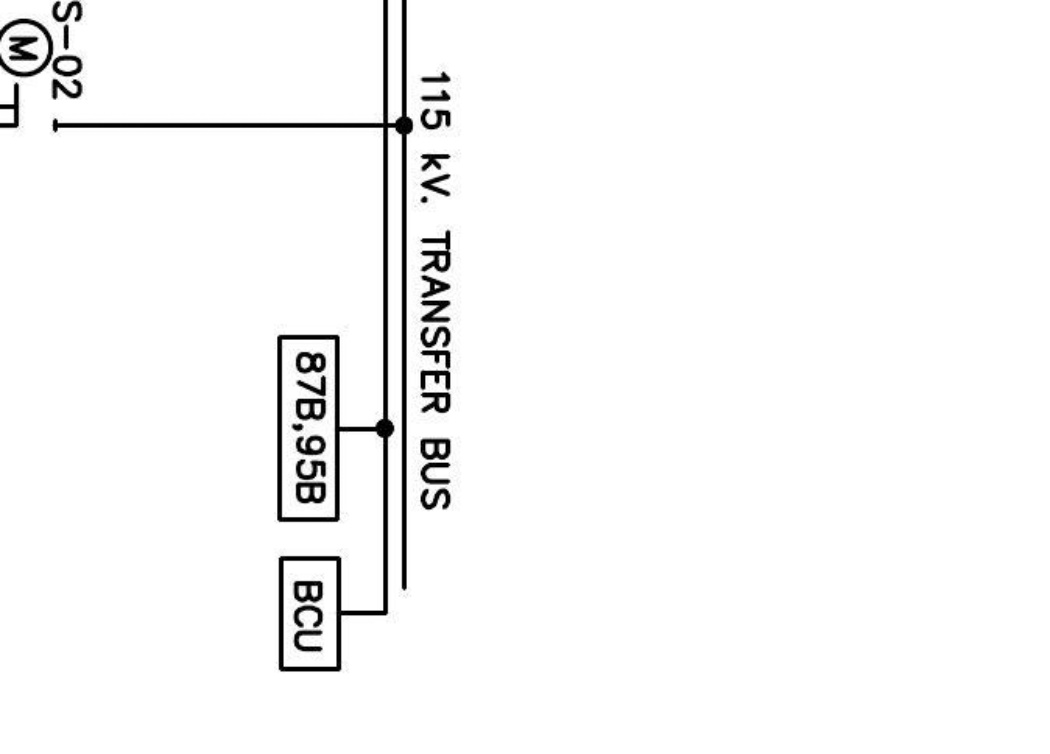BCU: (278, 555, 342, 673)
